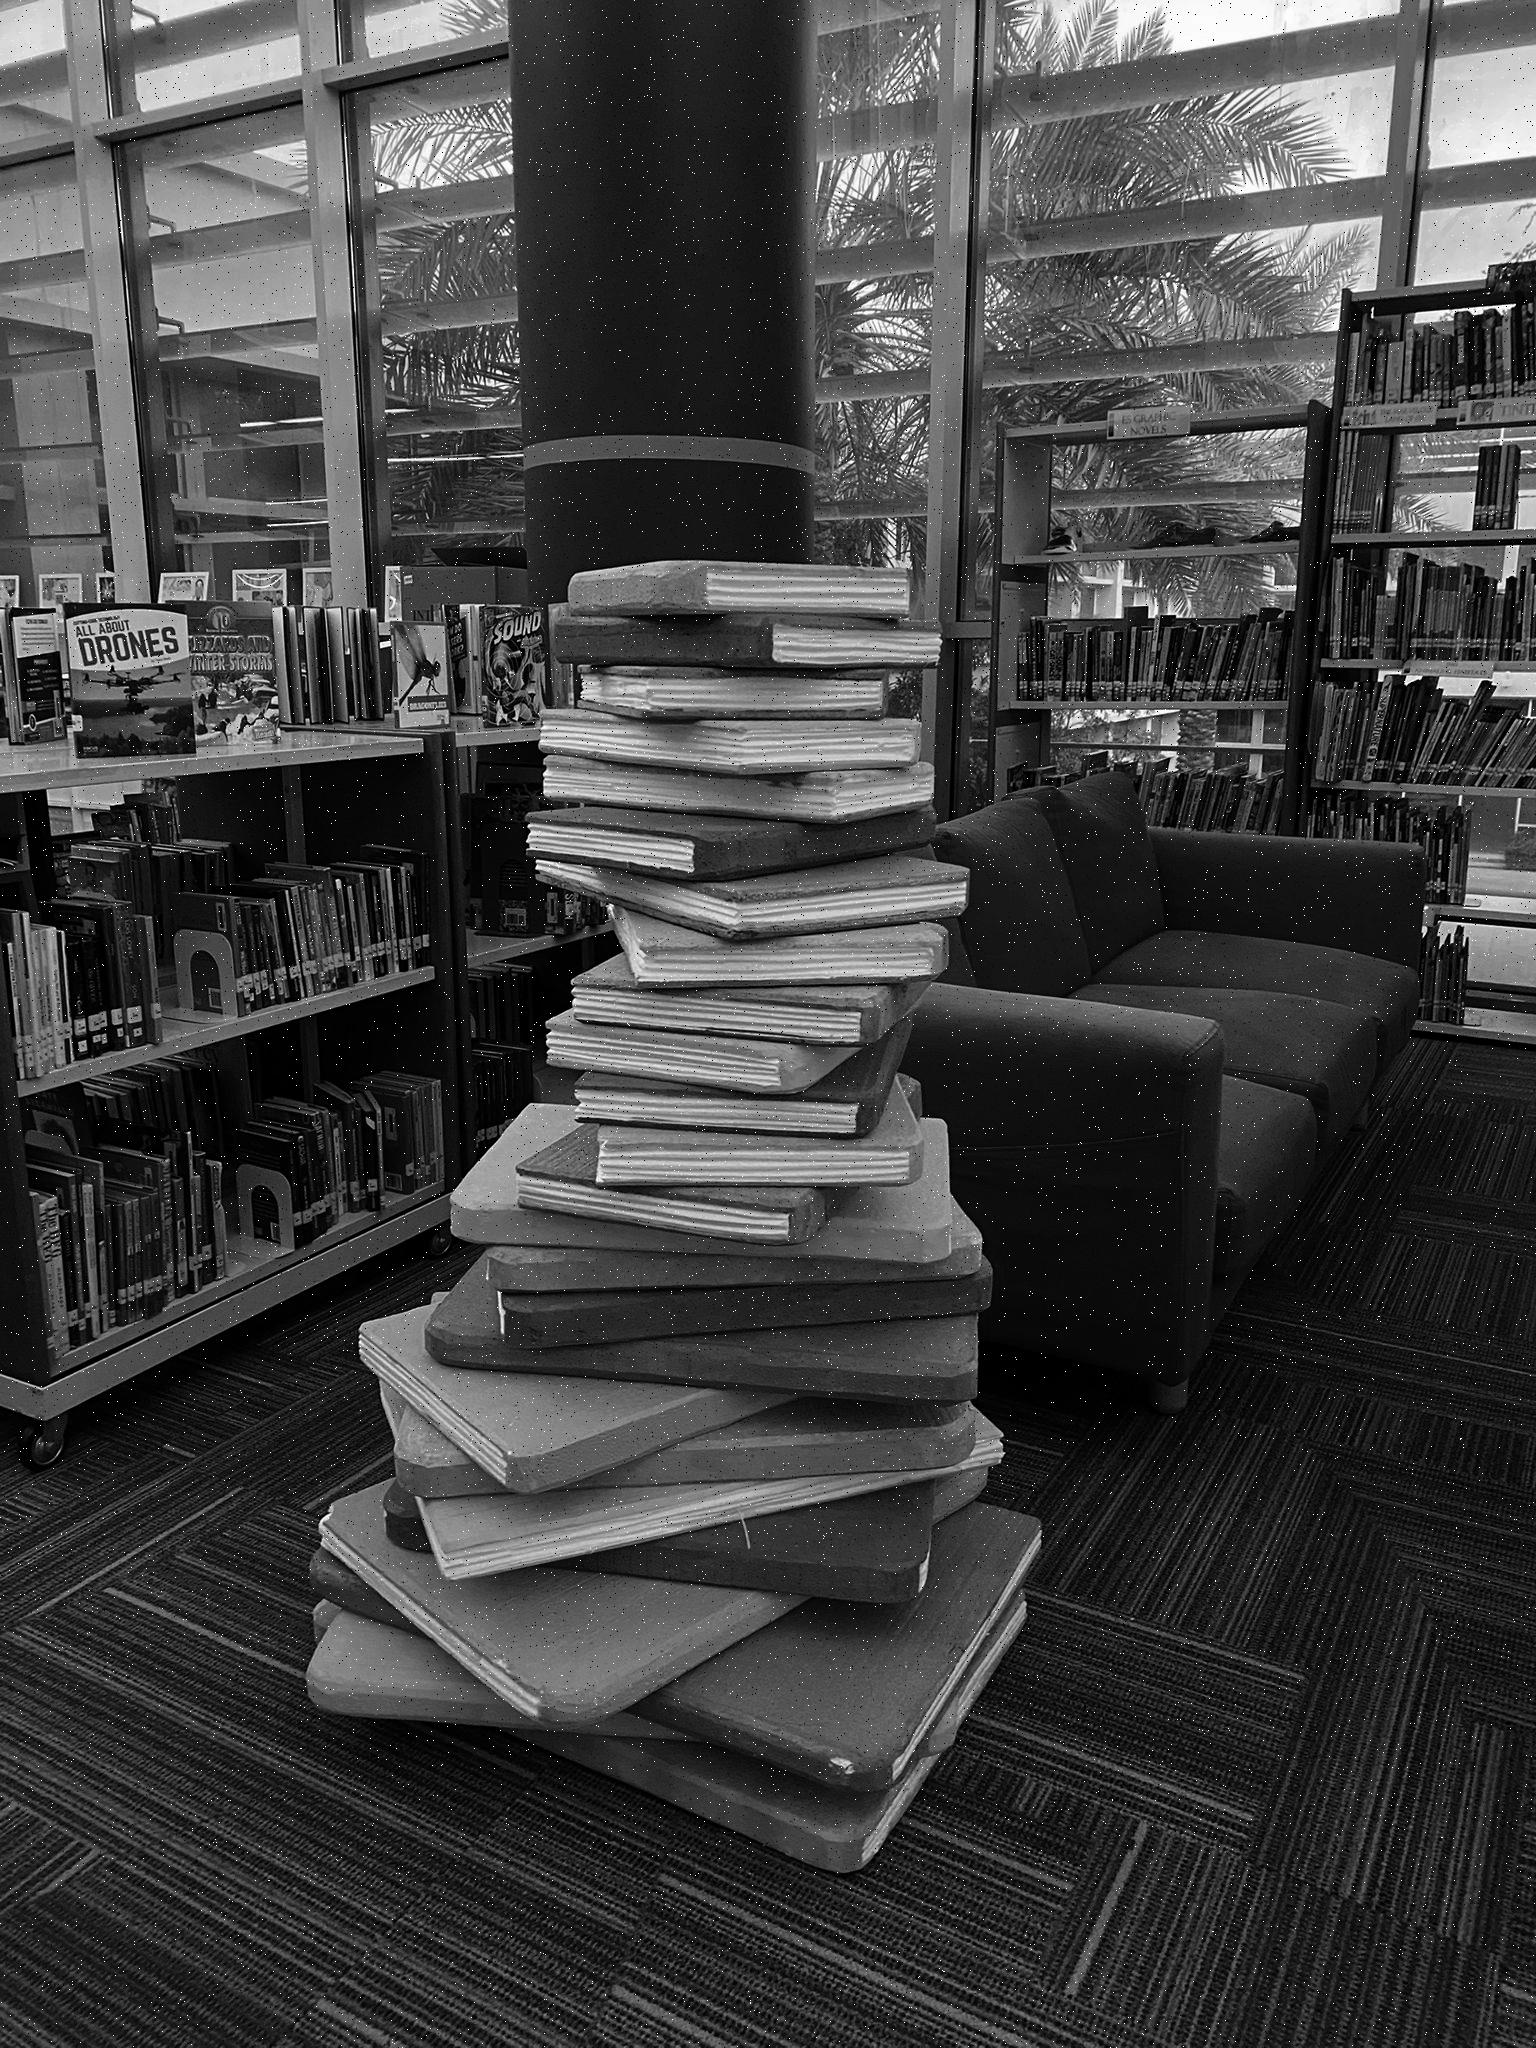Couch: (908, 774, 1420, 1411)
Pillar: (508, 0, 815, 600)
